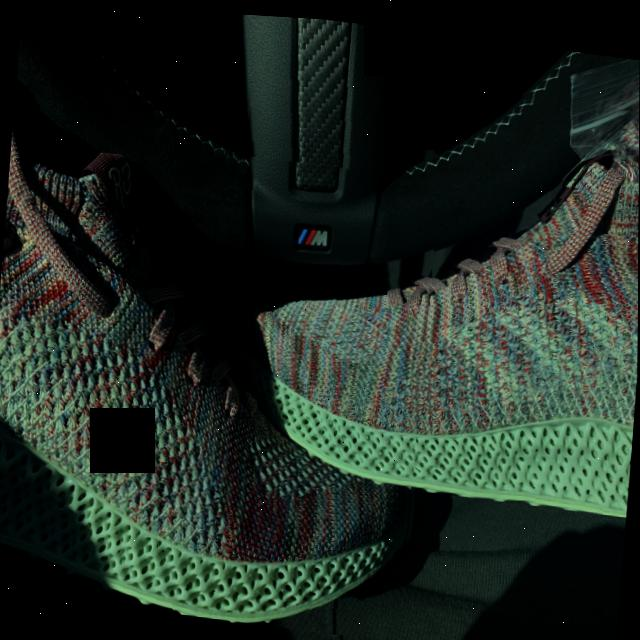shoe: (0, 122, 439, 639), (220, 51, 640, 510)
